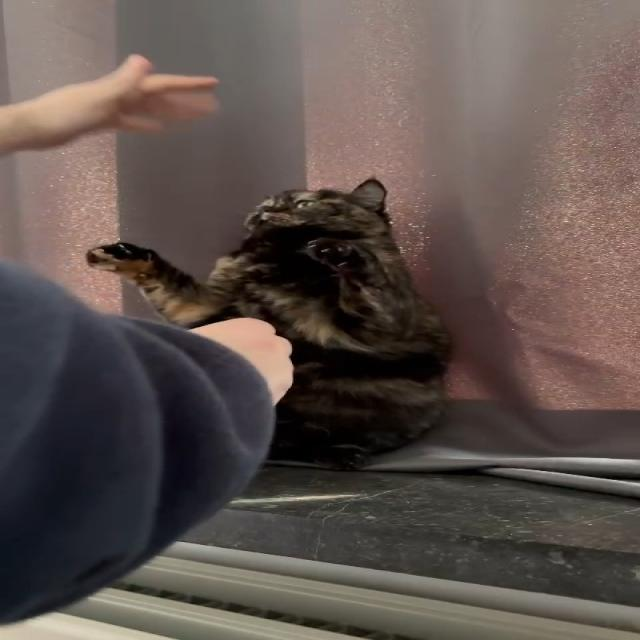authorized: (84, 176, 455, 471)
